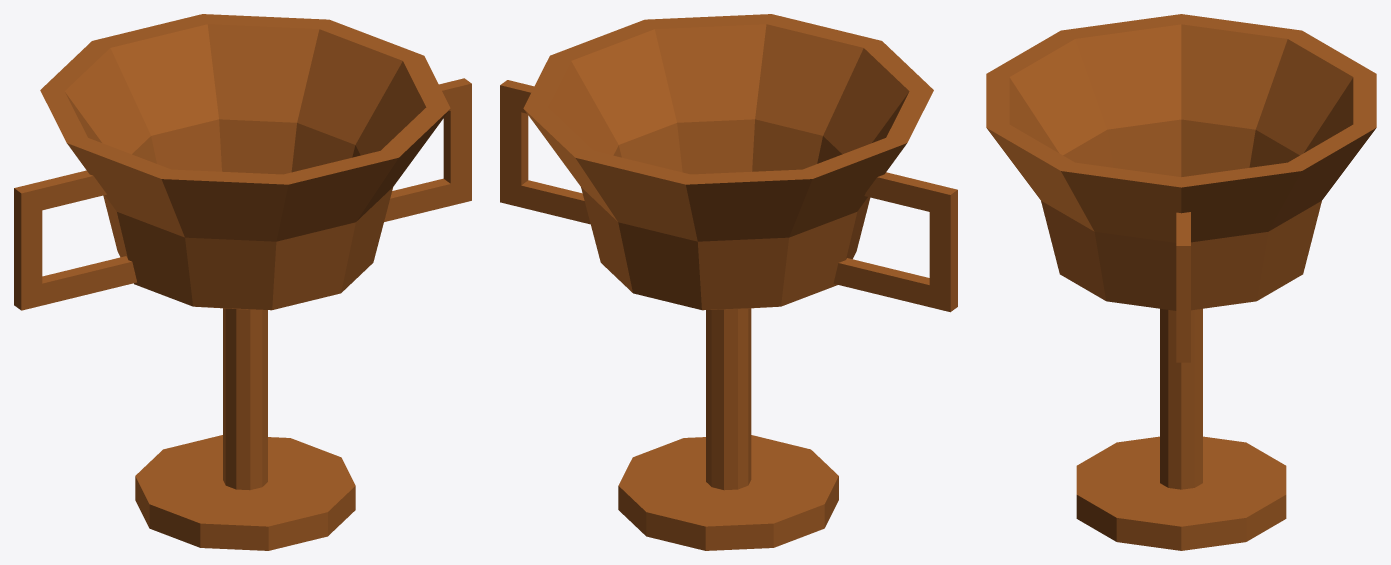
The model's file is SM_cup_08.FBX.
The picture shows the model from 3 angles, left to right: view 1: azimuth 30°, elevation 25°; view 2: azimuth 150°, elevation 25°; view 3: azimuth 270°, elevation 25°; orthographic projection.
Visible parts, largest first — view 1: Object107; view 2: Object107; view 3: Object107.
Part boxes in pixels (x1,y1,x2,y2): Object107: (14, 14, 471, 550); Object107: (500, 14, 957, 550); Object107: (986, 14, 1376, 550).
Size of the model in its own units: 35.68 by 30.73 by 26.95.
